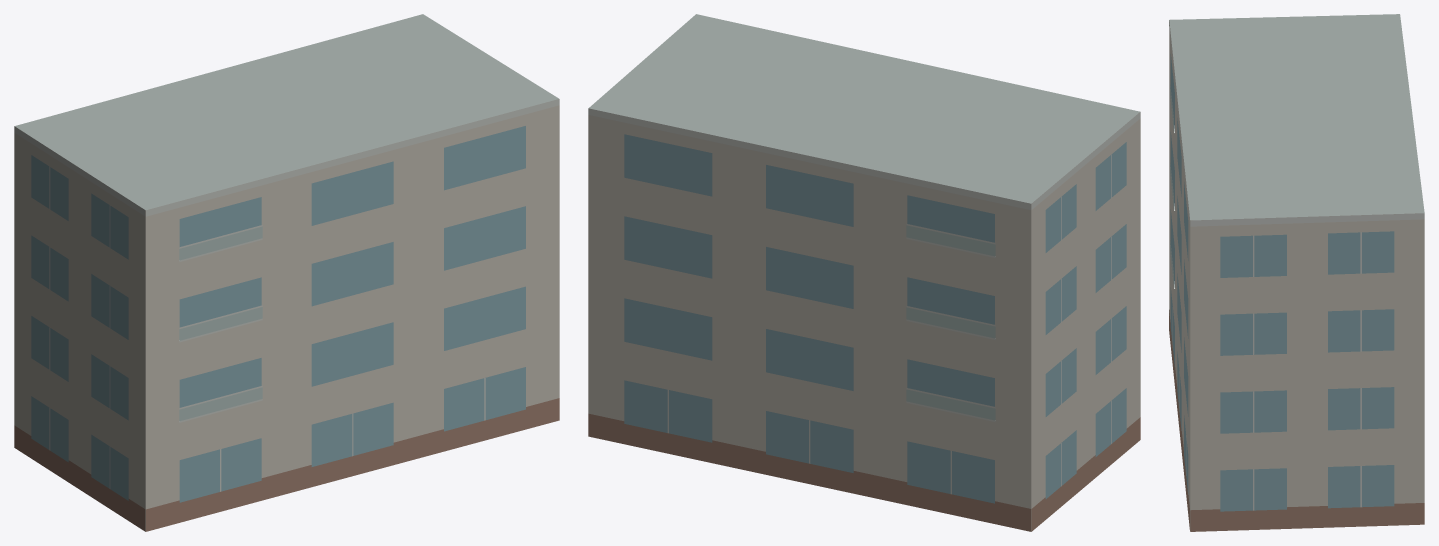
The model's file is survey-upis-33022594.glb.
3 renders of one model, left to right at view 1: azimuth 30°, elevation 25°; view 2: azimuth 150°, elevation 25°; view 3: azimuth 270°, elevation 25°, orthographic. The views are drawn at different scales.
Parts seen in each view (by area): view 1: survey-upis-33022594.tmp; view 2: survey-upis-33022594.tmp; view 3: survey-upis-33022594.tmp.
Boxes of the visible parts, <box> form: survey-upis-33022594.tmp: <box>14,14,559,531</box>; survey-upis-33022594.tmp: <box>588,14,1140,531</box>; survey-upis-33022594.tmp: <box>1169,14,1424,531</box>.
Size of the model in its own units: 17.36 by 12.2 by 9.08.
